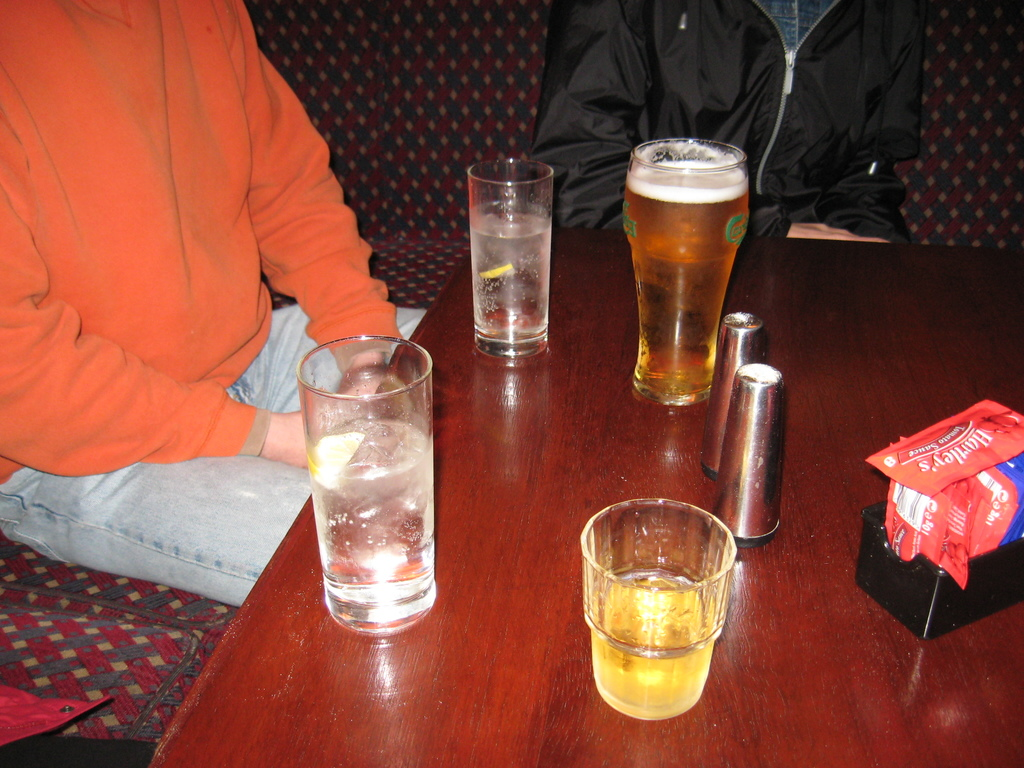Person: (0, 0, 427, 607), (529, 0, 921, 243)
